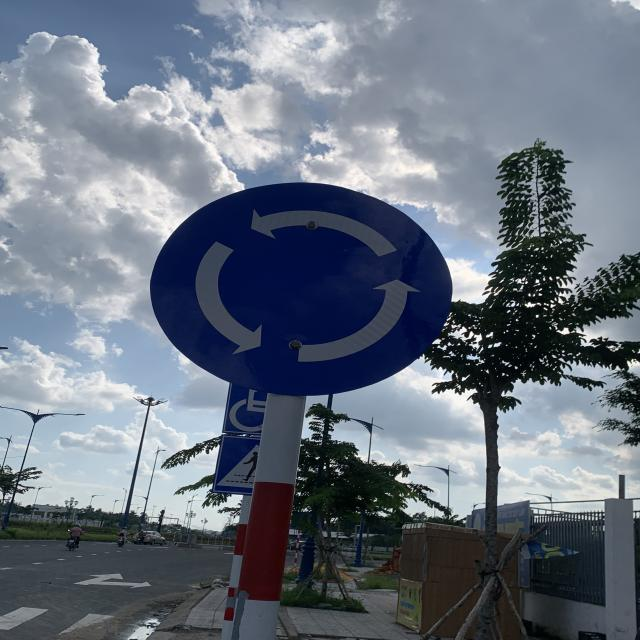Xe_Bus: (150, 179, 456, 395)
